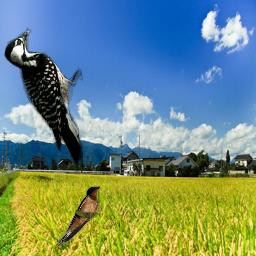Swallow: (54, 185, 102, 247)
Woodpecker: (3, 27, 83, 175)
